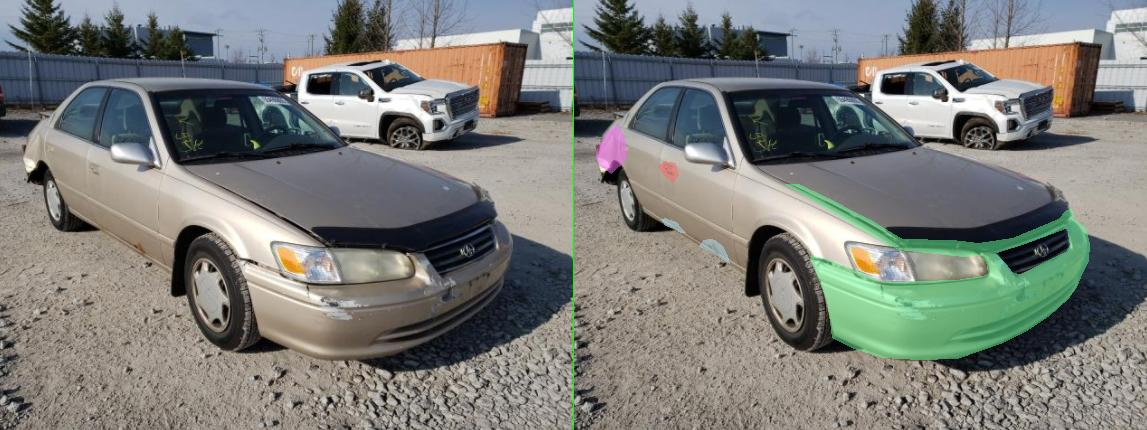Broken part: (470, 219, 1031, 359), (422, 184, 1001, 256)
Corrosion: (250, 239, 310, 263), (174, 218, 222, 232)
Dent: (44, 124, 104, 173)
Flaking: (817, 253, 881, 282), (641, 308, 725, 325), (685, 298, 741, 311), (643, 299, 681, 312)
Missing part: (168, 161, 208, 182)
Paint chip: (861, 287, 925, 314)
Scratch: (847, 277, 915, 289), (611, 290, 633, 312)
